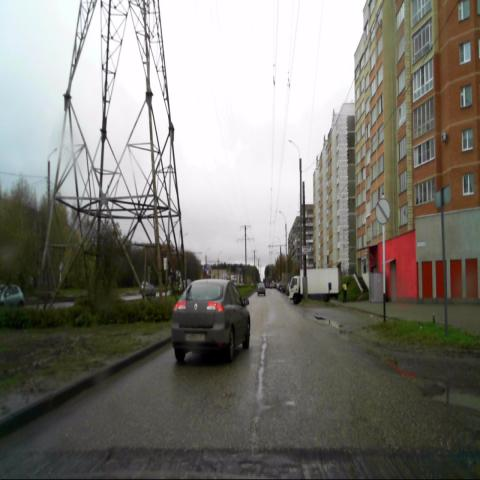3_31: (375, 198, 390, 226)
